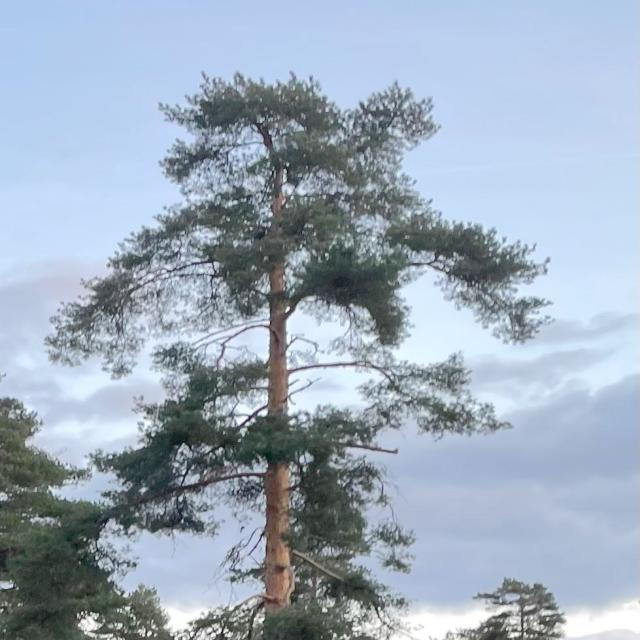pine: (42, 35, 580, 640)
